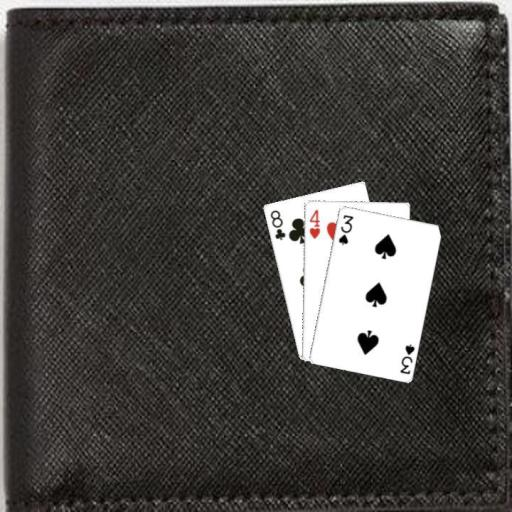3S: (335, 211, 355, 246), (397, 341, 416, 376)
4H: (306, 206, 321, 240)
8C: (267, 207, 287, 241)
